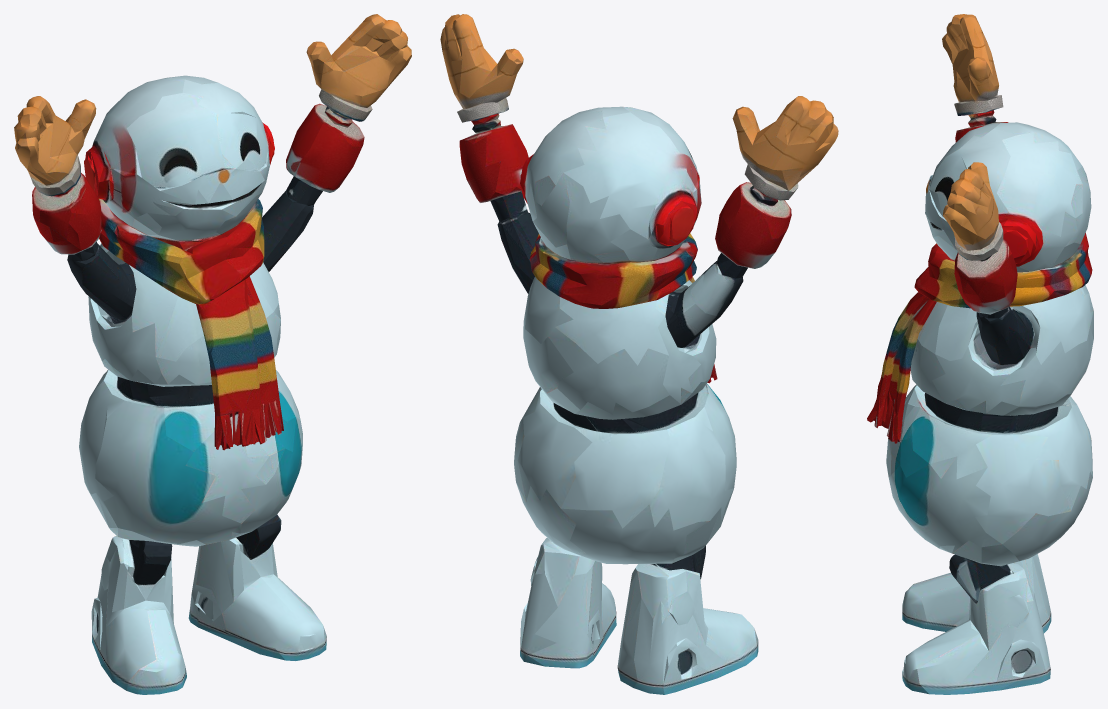
File: ice-robot.glb
3 views of the same model, side by side, from view 1: azimuth 30°, elevation 25°; view 2: azimuth 150°, elevation 25°; view 3: azimuth 270°, elevation 25° (orthographic). The views are drawn at different scales.
Bounding box in the file's own units: 1.32 × 1.9 × 0.7006.
Materials: 1 (1 with a texture image).
